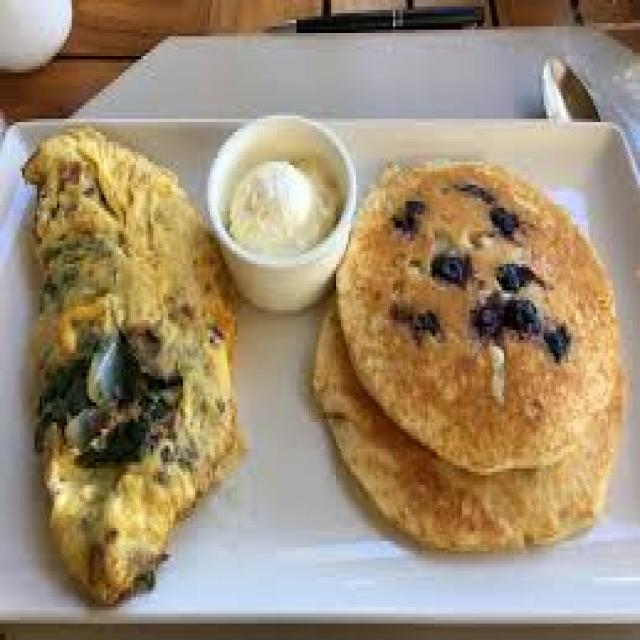Omelette: (20, 122, 235, 600)
Pancakes: (316, 145, 616, 551)
